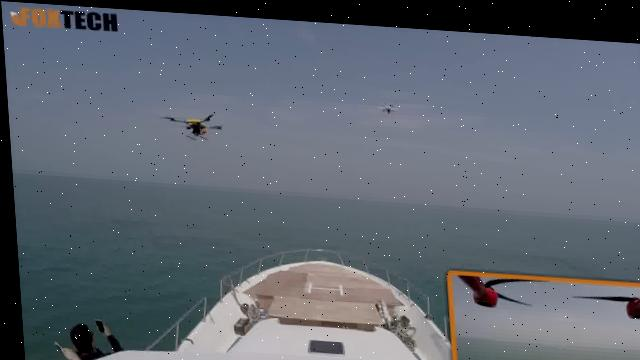drone: (147, 99, 225, 154), (346, 88, 406, 113)
